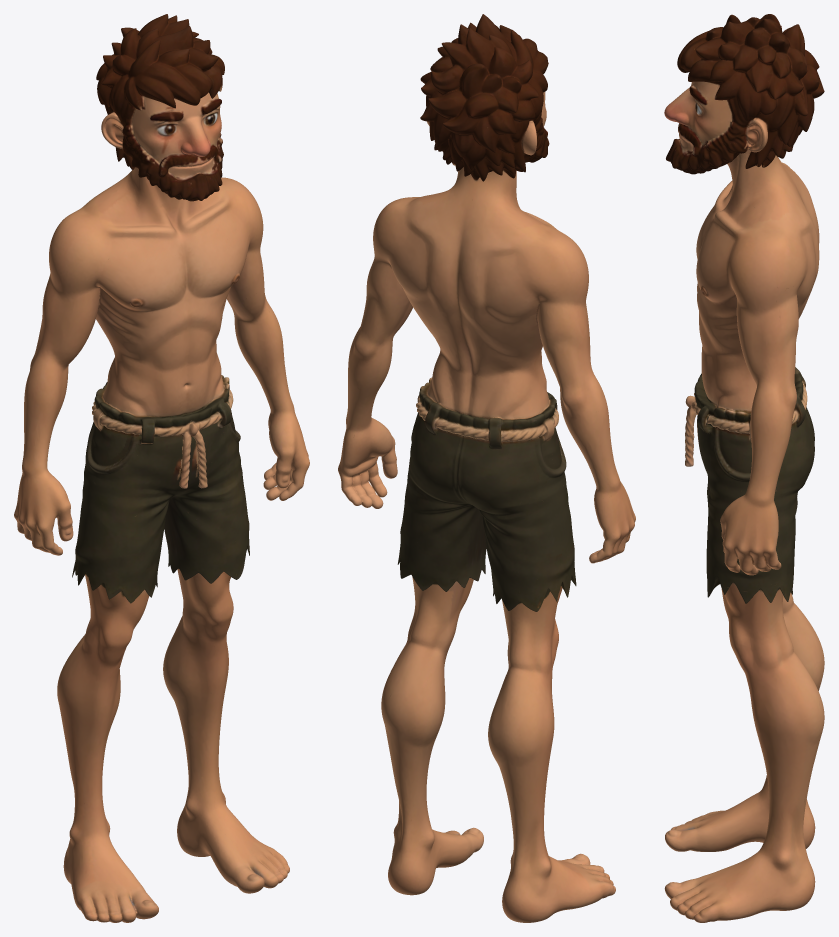
File: survivor.fbx
The picture shows the model from 3 angles, left to right: view 1: azimuth 30°, elevation 25°; view 2: azimuth 150°, elevation 25°; view 3: azimuth 270°, elevation 25°; orthographic projection.
Parts seen in each view (by area): view 1: Mesh_0; view 2: Mesh_0; view 3: Mesh_0.
Boxes of the visible parts, box(x1,y1,x2,y2) form: Mesh_0: box(14, 14, 309, 922); Mesh_0: box(338, 14, 635, 922); Mesh_0: box(664, 14, 824, 922).
Bounding box in the file's own units: 65.69 × 190 × 32.03.
Materials: 1 (1 with a texture image).
